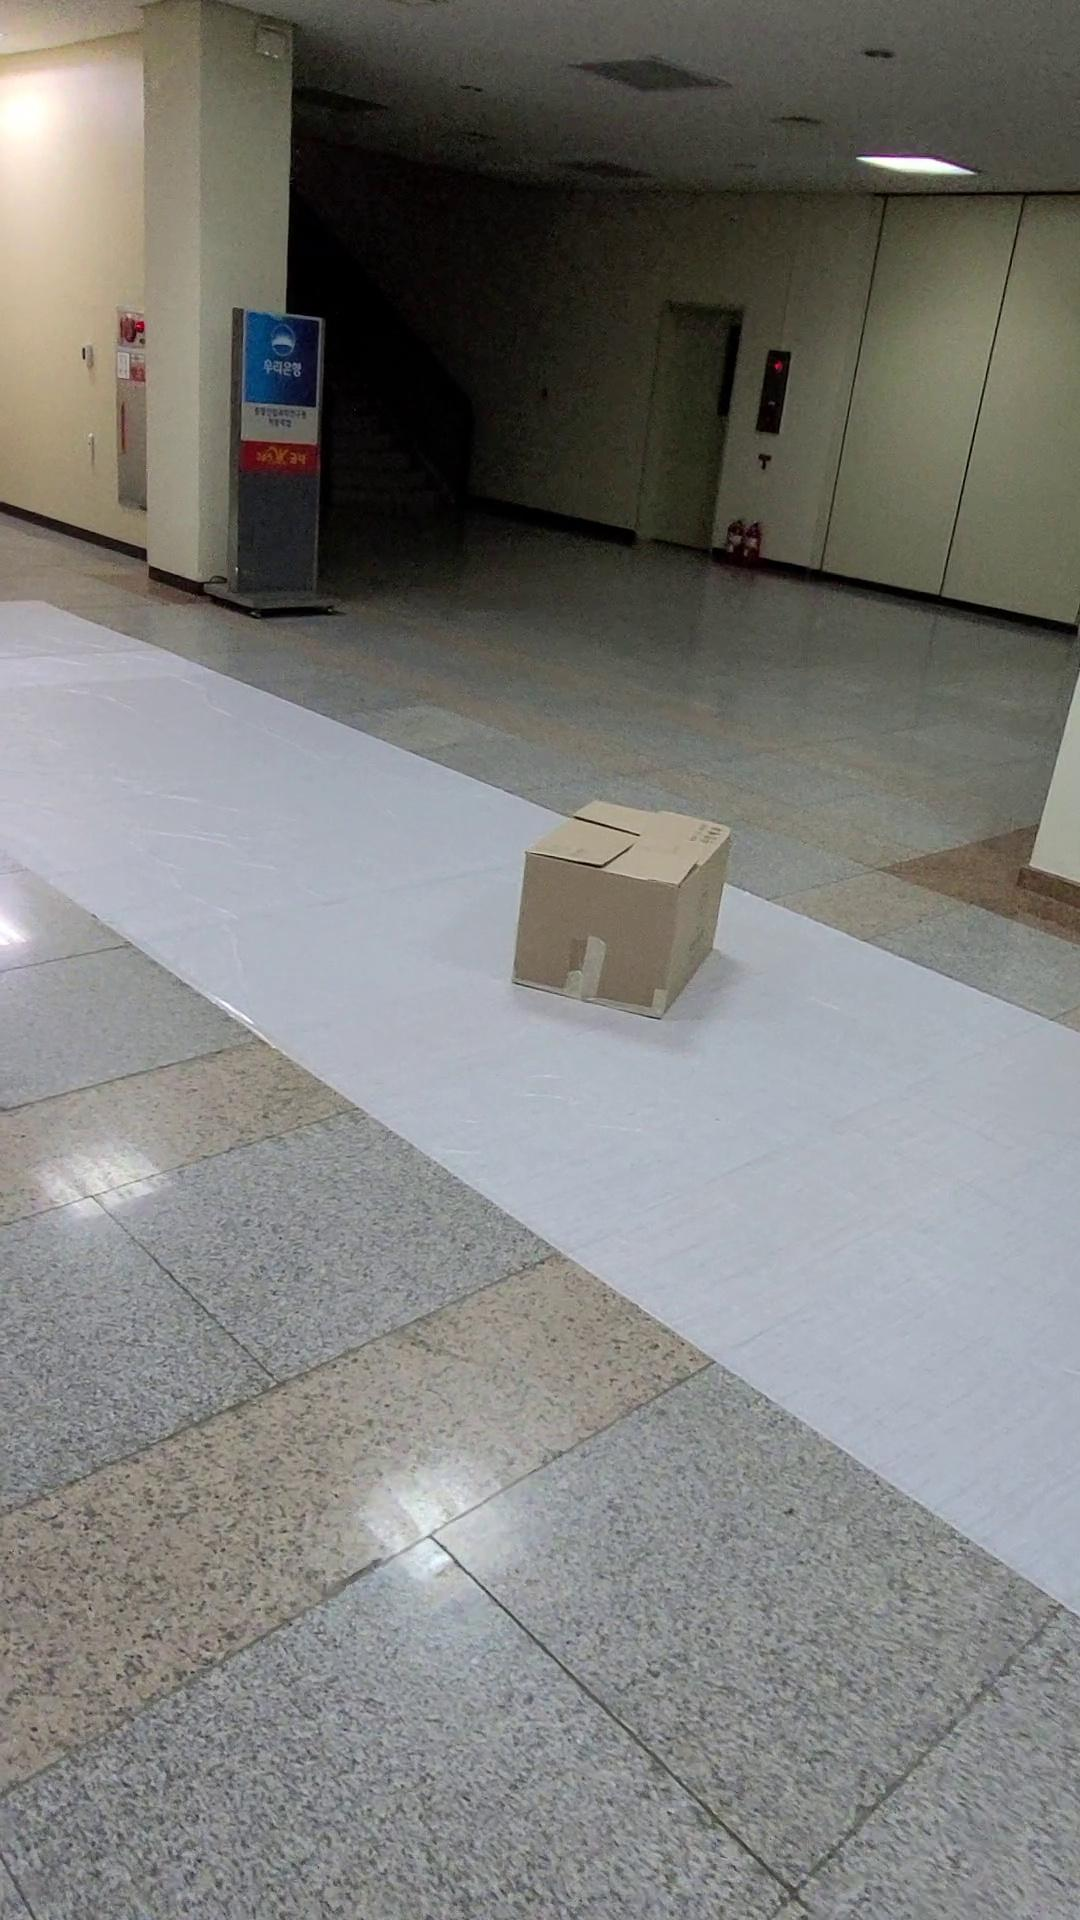Box: (463, 781, 760, 1047)
